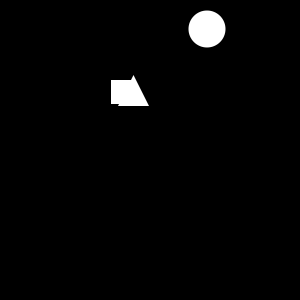circle: (111, 80, 135, 104)
rectangle: (188, 10, 225, 48)
triangle: (118, 75, 149, 106)
